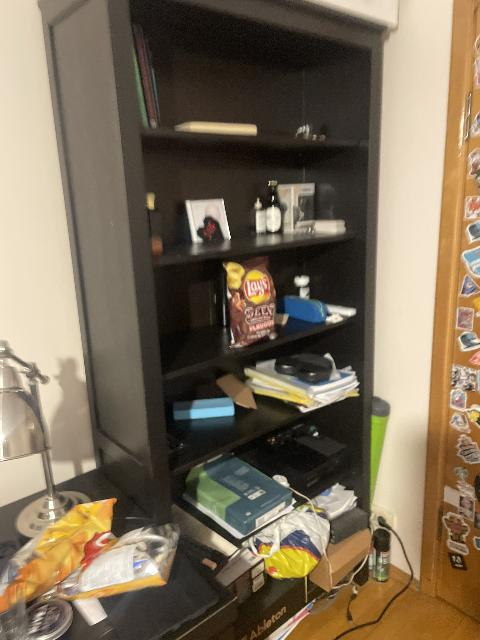Chio Cascaval 125g: (0, 491, 112, 614)
Chio Hula Hoops Cheese 70g: (56, 525, 180, 593)
Lays Beef Grilled Ribs 125g: (223, 257, 277, 348)
